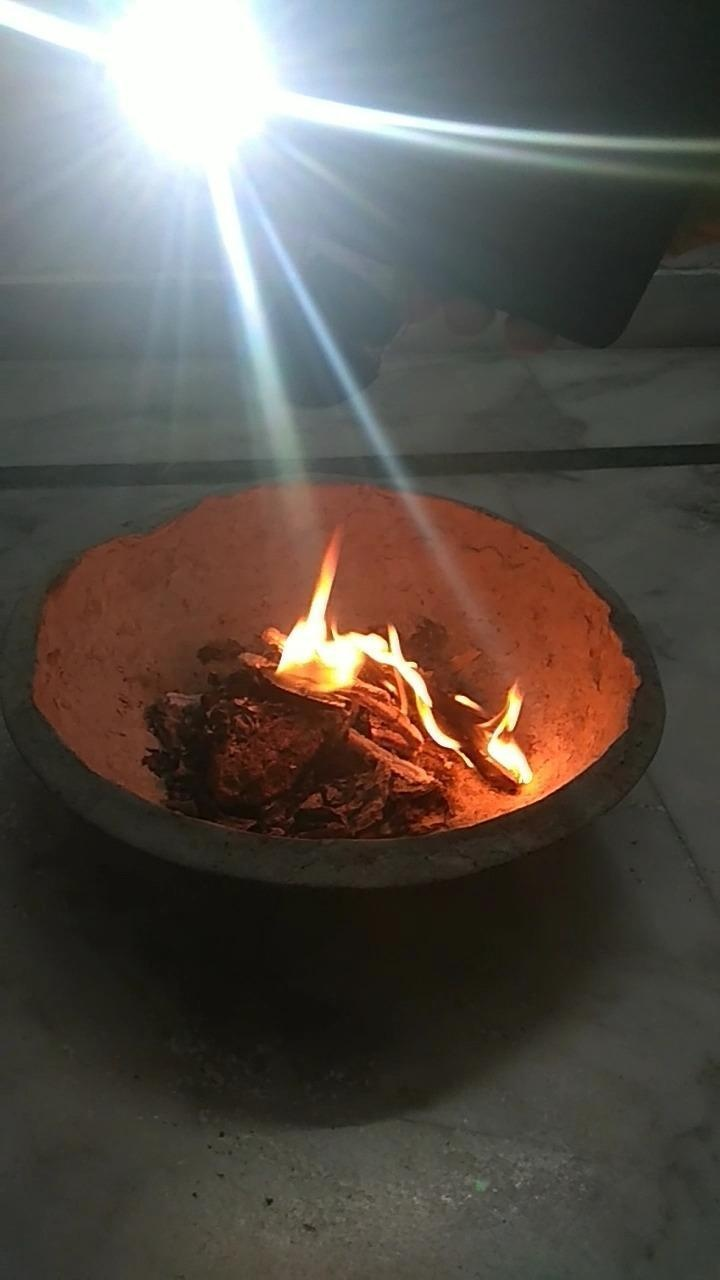fire: (280, 484, 433, 699)
